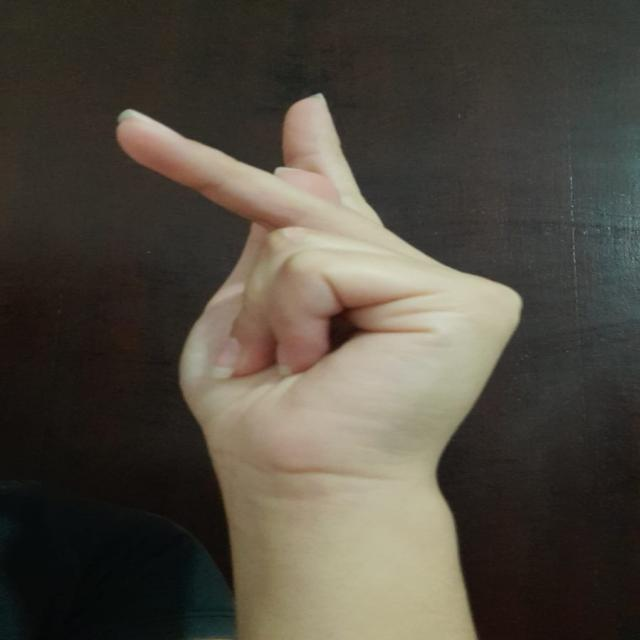K: (96, 64, 538, 474)
